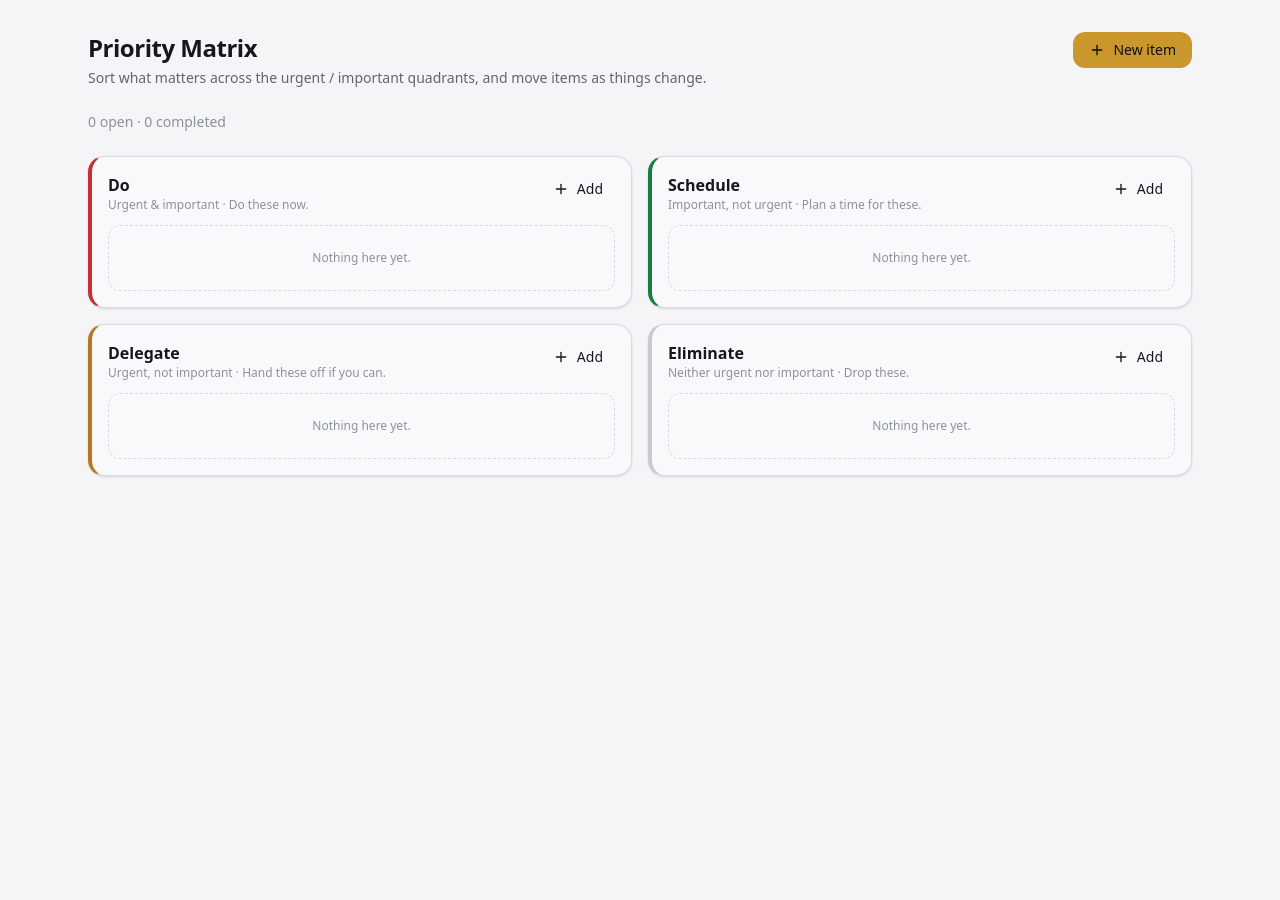
Test: PriorityMatrixView › opens the new-item dialog
Click the button "New item". click: (1133, 50)
box: [1073,32,1192,68]
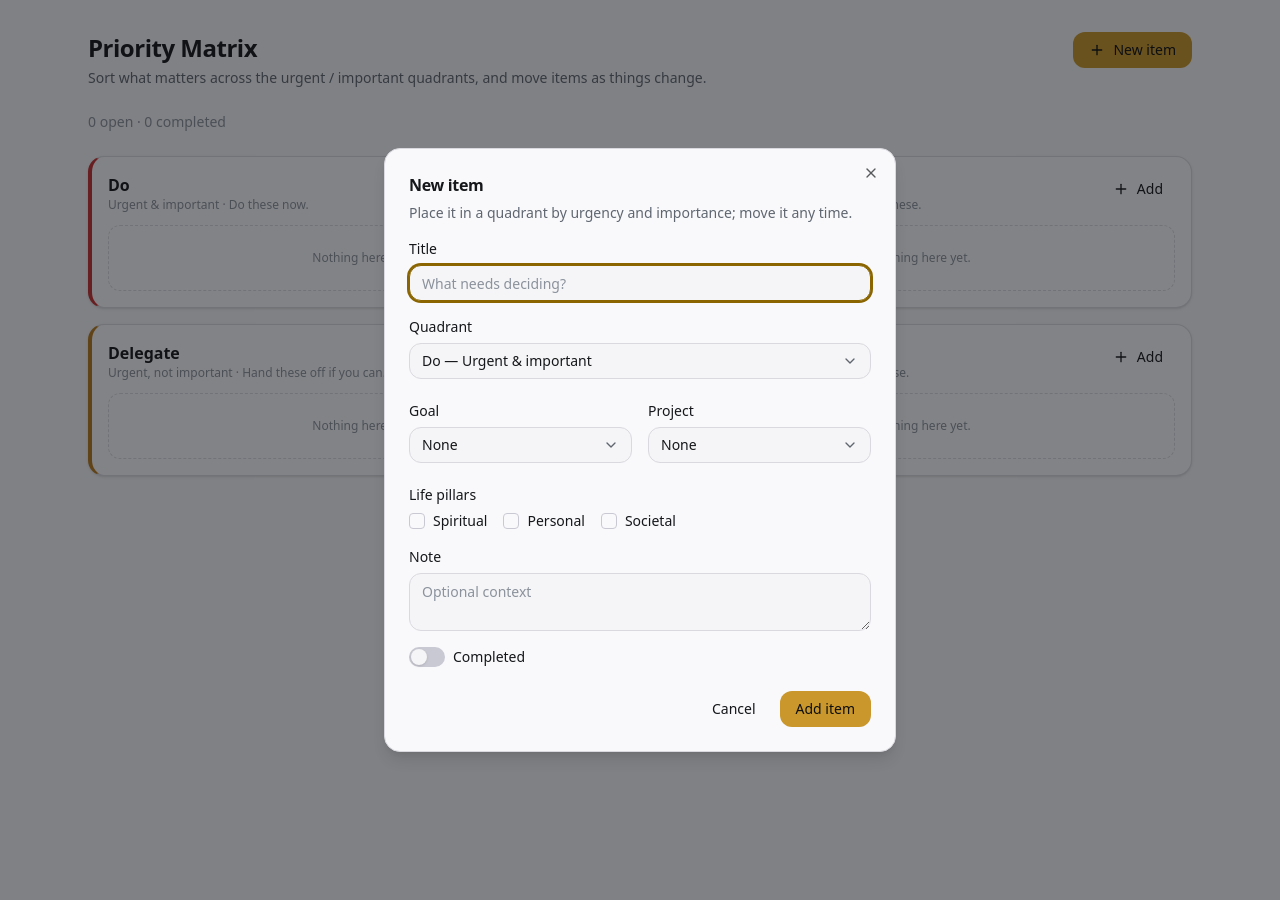
Result: the field labelled "Title" is shown at [409,265,871,301]
